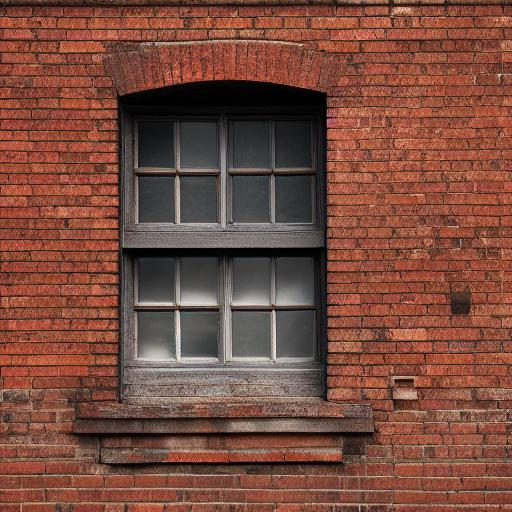Window: (70, 39, 378, 466)
